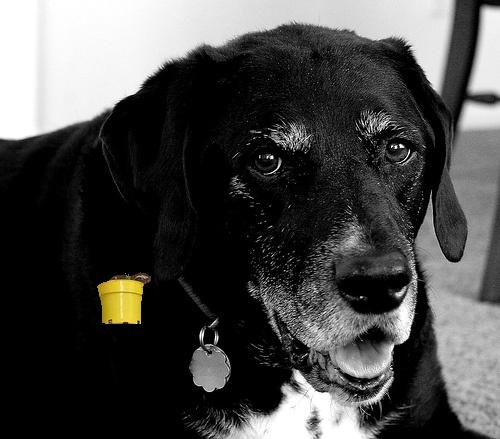tampered: (98, 271, 151, 324)
